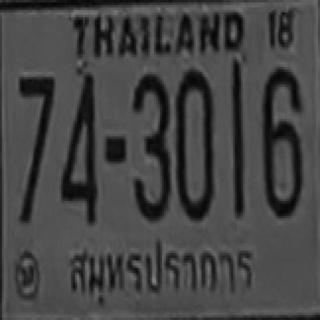N00: (174, 69, 215, 221)
N01: (230, 58, 245, 218)
N03: (130, 73, 173, 222)
N04: (58, 72, 98, 223)
N06: (261, 67, 300, 216)
N07: (18, 74, 53, 224)
P57: (58, 230, 258, 303)
